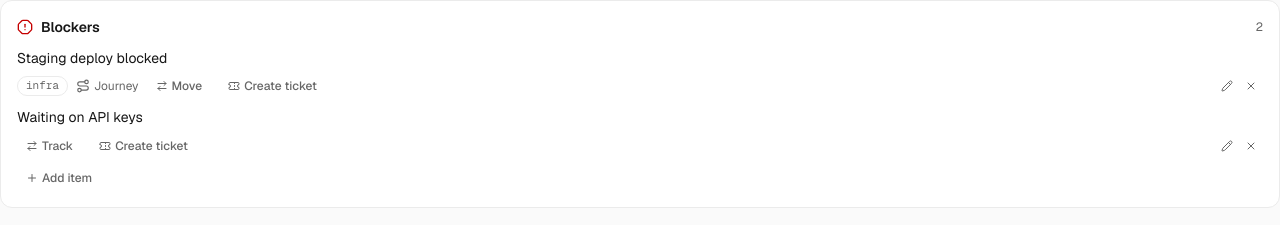
Scenario: SectionCard inline editing › Escape cancels without saving
This screenshot has width=1280, height=225.
Click the button named "Edit item: Staging deploy blocked": click(1227, 86) [1215,74,1239,98]
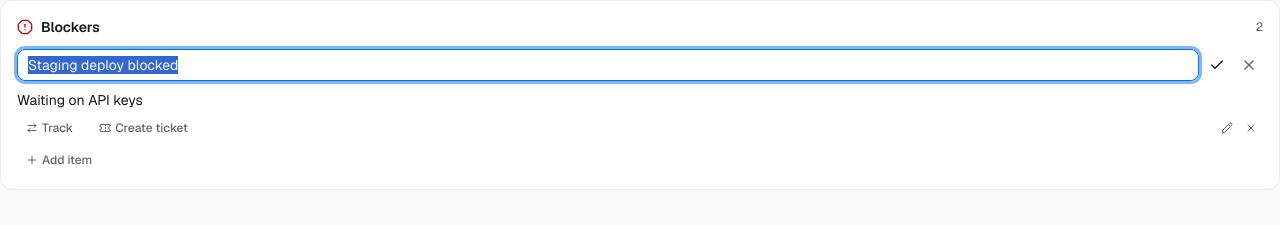
Replace the text in the field named "Edit item: Staging deploy blocked" with "changed": (608, 65) [17,49,1199,81]
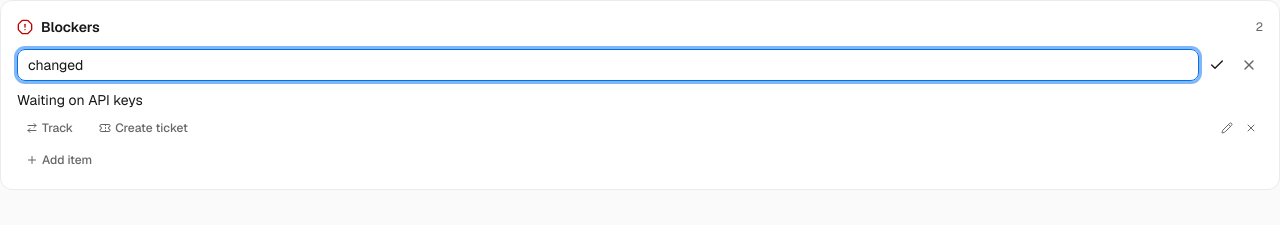
Press Escape in the field named "Edit item: Staging deploy blocked", box [17,49,1199,81]
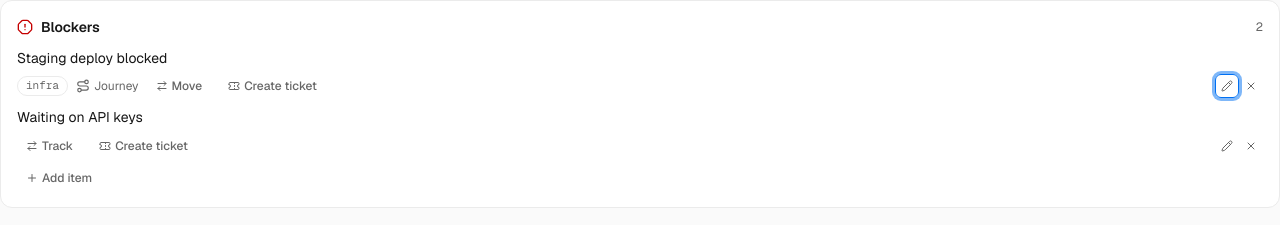
Result: the text "Staging deploy blocked" is shown at [17,49,167,67]
